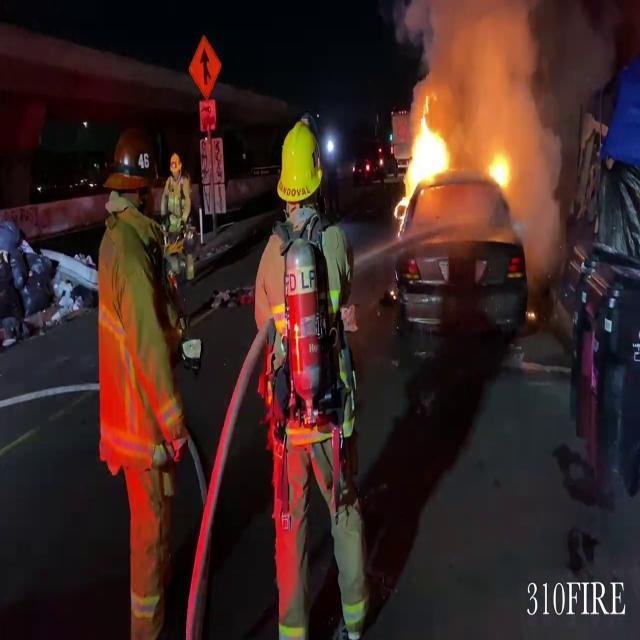Fire: (396, 96, 454, 210), (484, 142, 514, 194)
Smoke: (468, 2, 568, 250)
